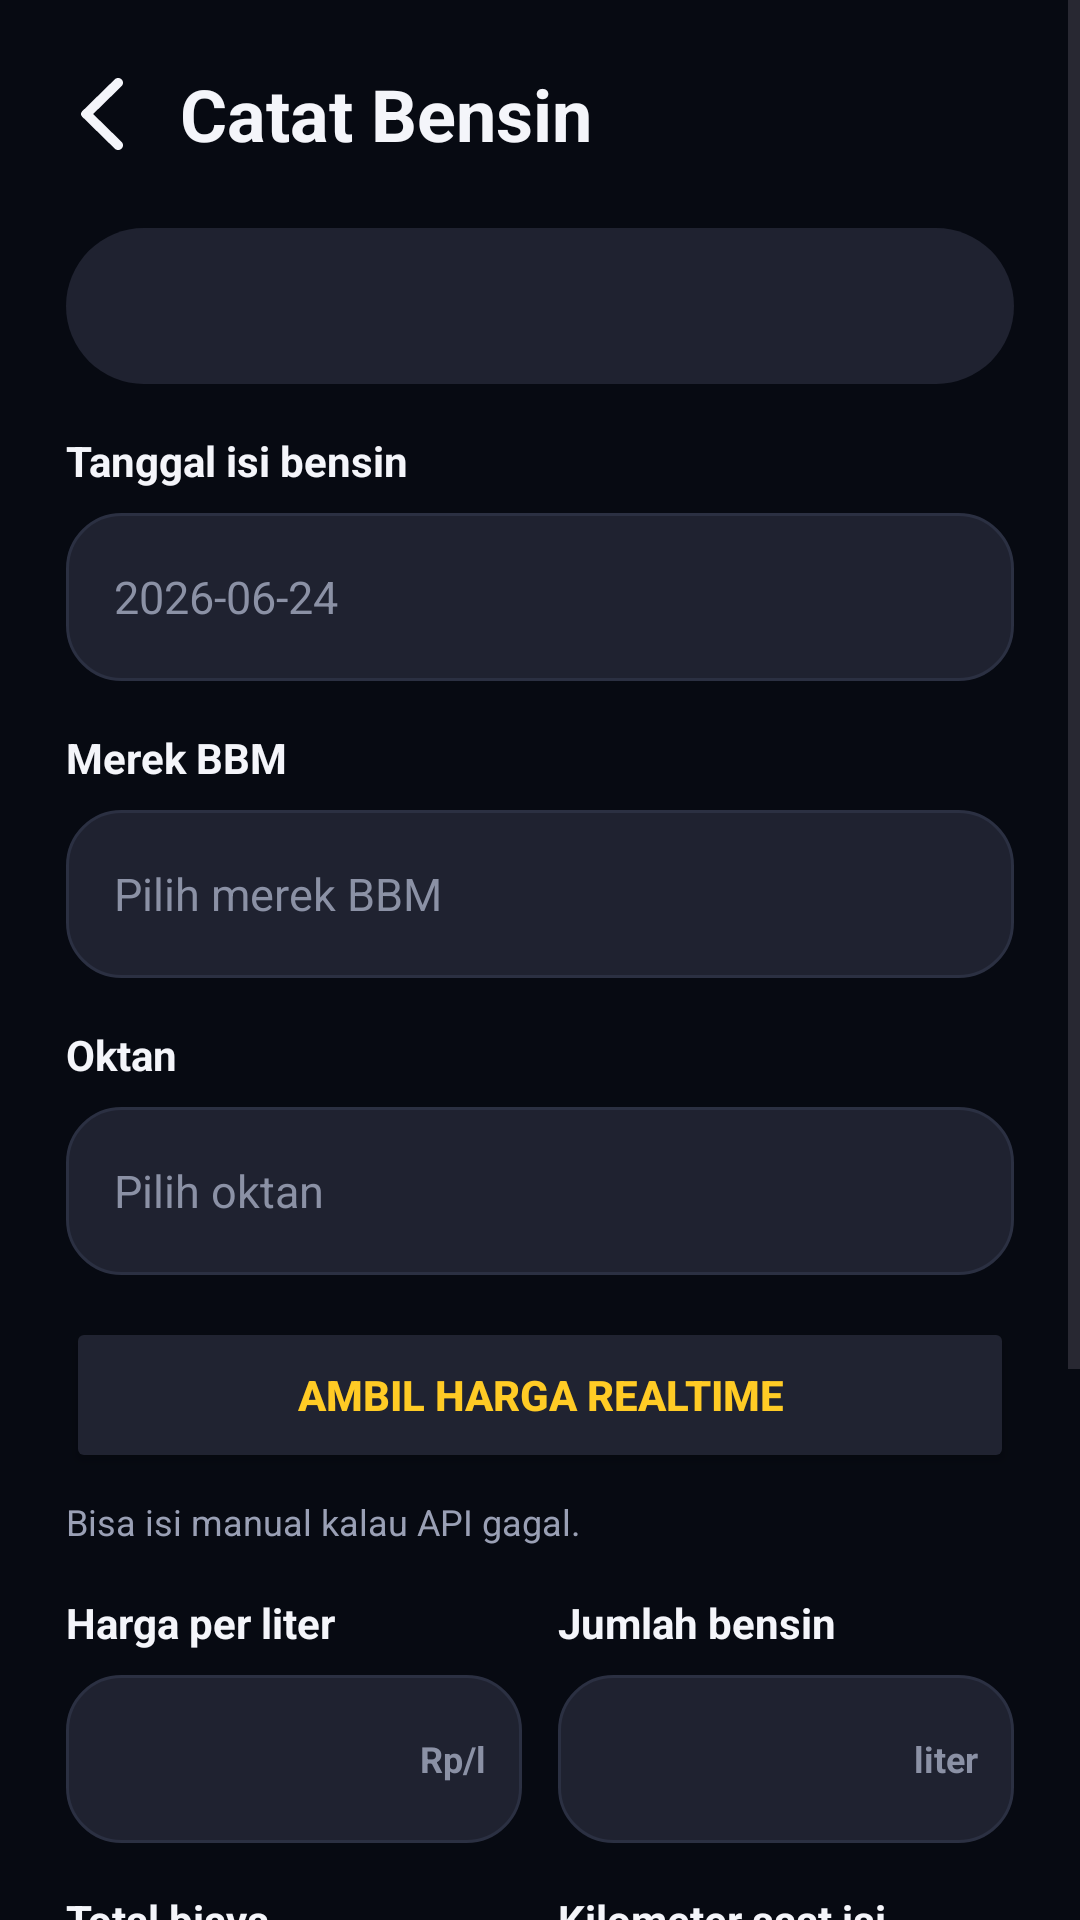

Screen size 1080 × 1920. Icon name, then its box in pixels as BBox(x1, y1, x2, y2):
Kembali: BBox(81, 78, 123, 150)
